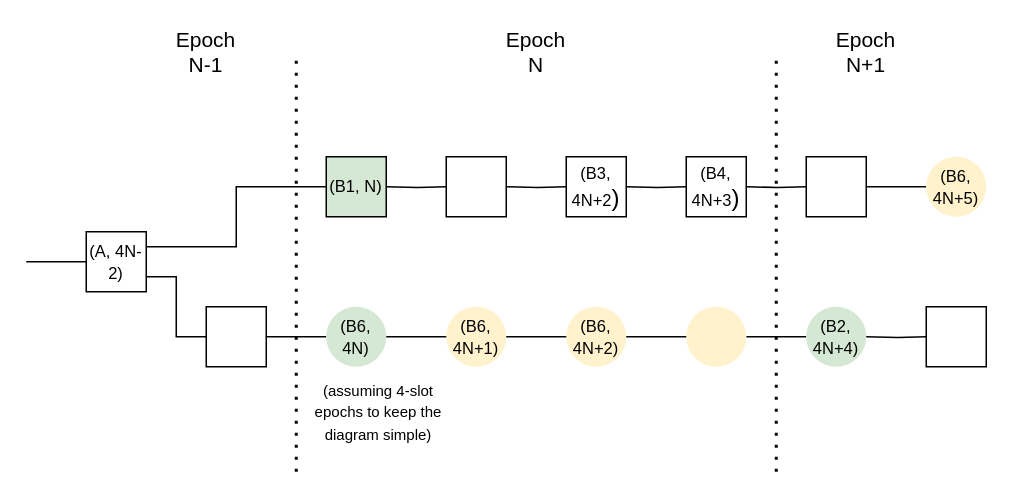
The diagram is 1013 pixels wide and 500 high, and some of its shapes have lost their labels. The shapes that lost their labels are listed below. From the top down, each one's box as (x1, y1, x2, y2) in pixels, then its label:
(445, 155, 506, 217): (B2, 4N+1 )
(805, 155, 866, 217): (B5, 4N+4 )
(205, 305, 266, 367): (B6, 4N-1)
(686, 306, 746, 366): (B6, 4N+3)
(925, 305, 986, 367): (B7, 4N+5 )
